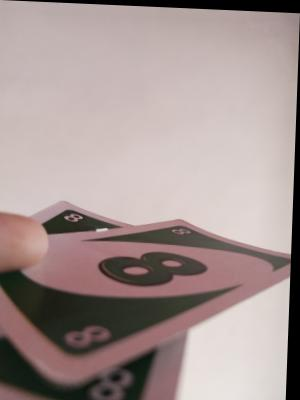green: (52, 210, 152, 339)
num_8: (59, 315, 119, 353), (171, 225, 194, 240), (62, 210, 85, 224)
